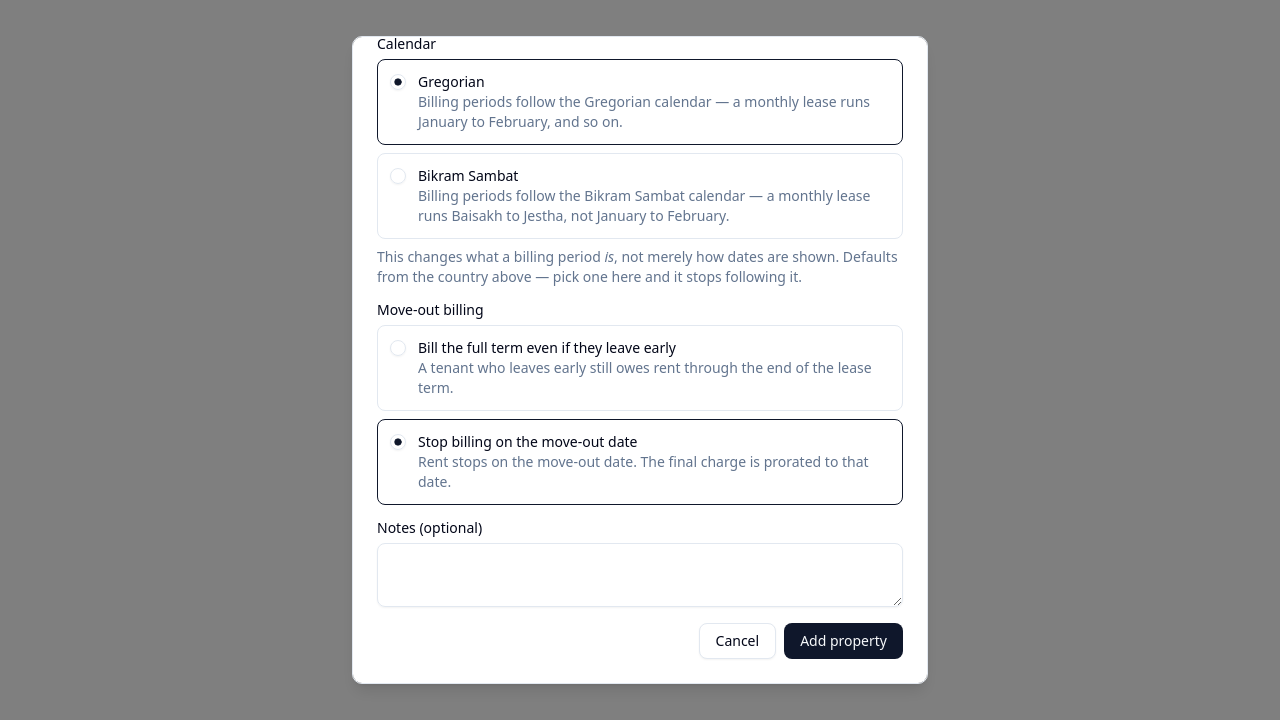
Test case: PropertyFormDialog › shows a validation error when the name is left empty
The image size is (1280, 720).
(page scrolled)
Note: Leave "Name" empty and try to submit.
Click the button "Add property". click: (844, 641)
box: 784,623 -> 903,659
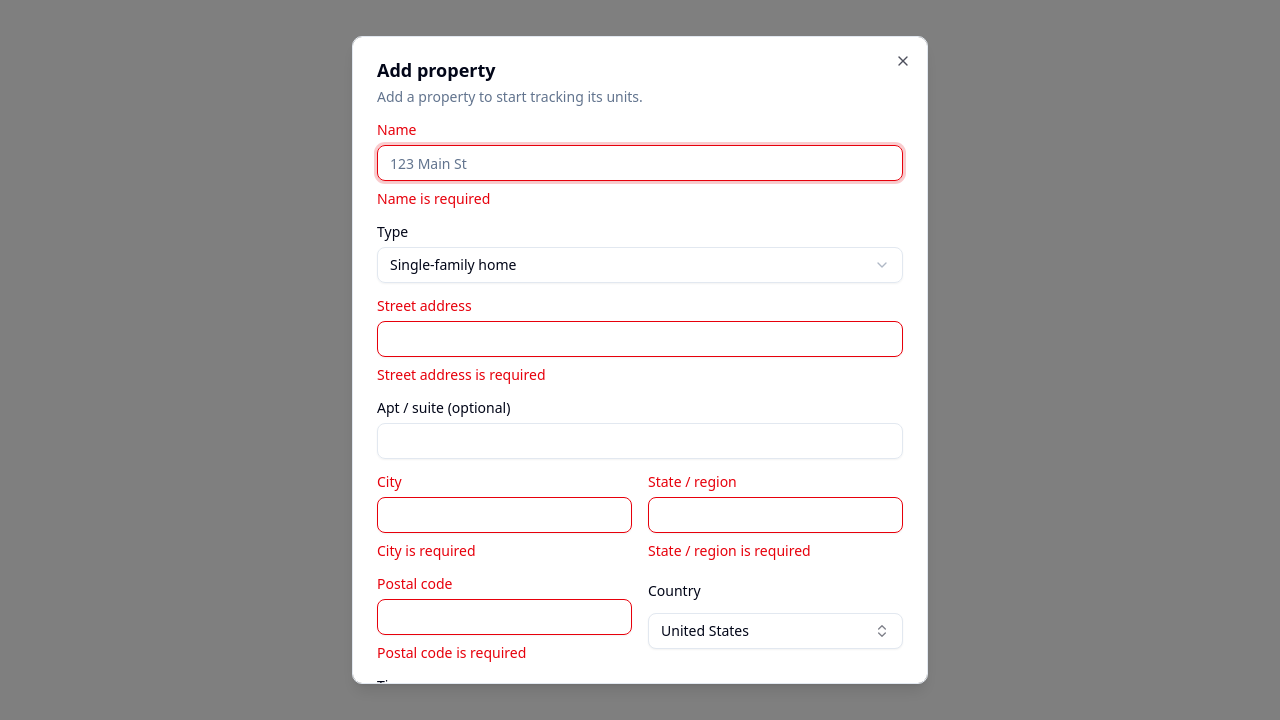
expect the text "Name is required" is shown: met, box 377,189 -> 490,208
